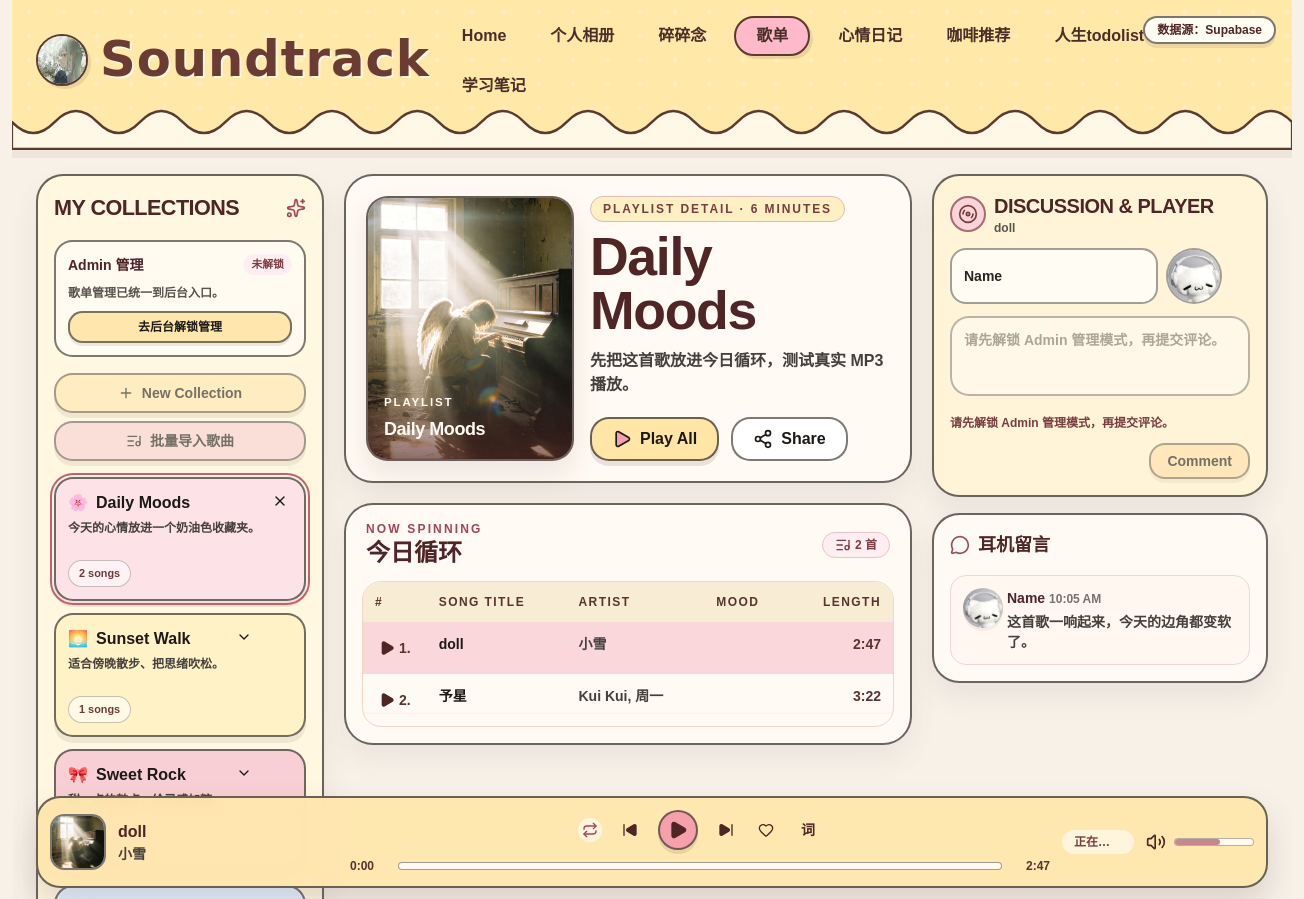
PlaylistsPageView › switches songs from the song table and updates the shared player state
This screenshot has width=1304, height=899.
Click the button named "播放予星": click(395, 700) [375,686,415,714]
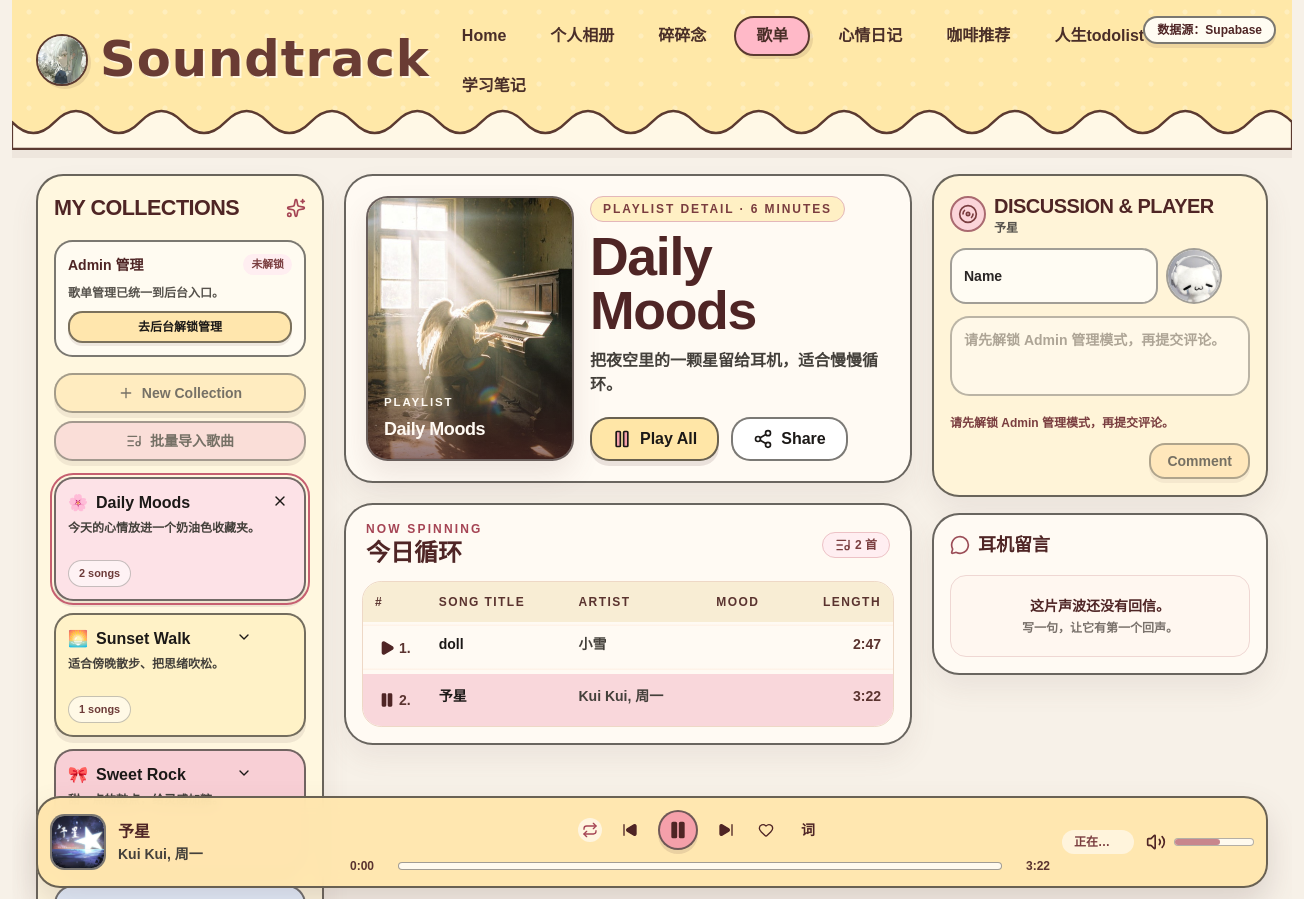
Result: the heading "予星" is shown at [118,823,150,840]
Result: the text "Kui Kui, 周一" is shown at [118,844,203,864]
Result: the text "把夜空里的一颗星留给耳机，适合慢慢循环。" is shown at [590,349,890,397]
